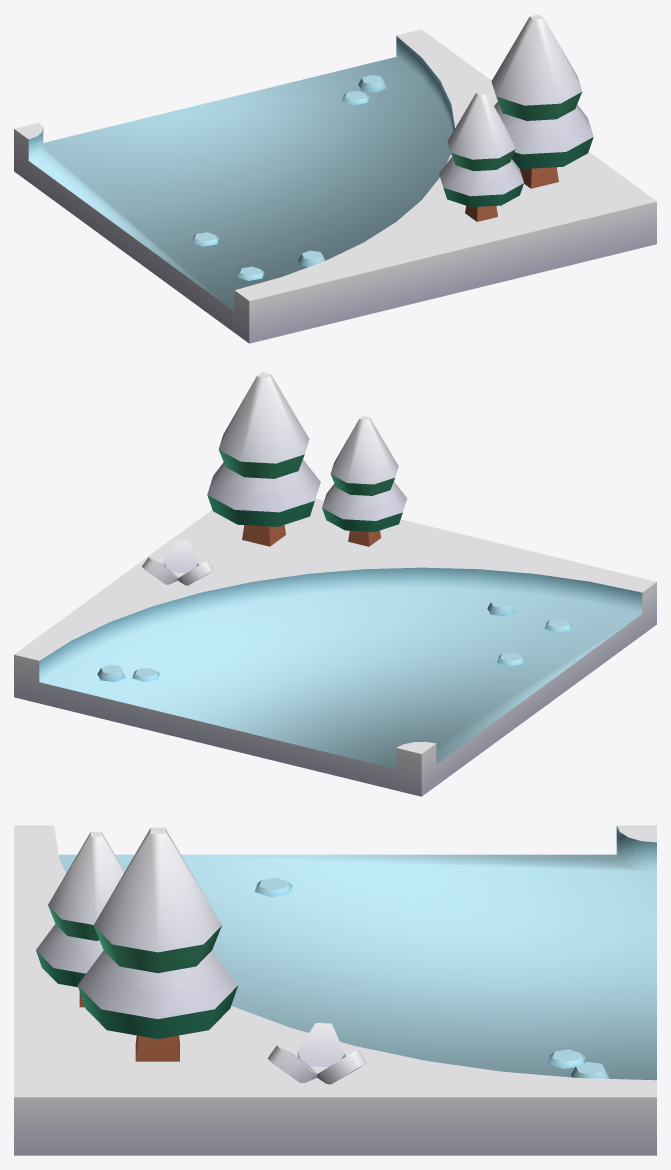
The model's file is snow-tile-wide-corner.gltf.
3 renders of one model, top to bottom at view 1: azimuth 30°, elevation 25°; view 2: azimuth 150°, elevation 25°; view 3: azimuth 270°, elevation 25°, orthographic. The views are drawn at different scales.
Parts seen in each view (by area): view 1: snow-tile-wide-corner; view 2: snow-tile-wide-corner; view 3: snow-tile-wide-corner.
Part boxes in pixels (x1,y1,x2,y2): snow-tile-wide-corner: (14, 14, 656, 343); snow-tile-wide-corner: (14, 372, 656, 796); snow-tile-wide-corner: (14, 825, 656, 1155).
Size of the model in its own units: 2 by 0.96 by 2.
Materials: 1 (1 with a texture image).
